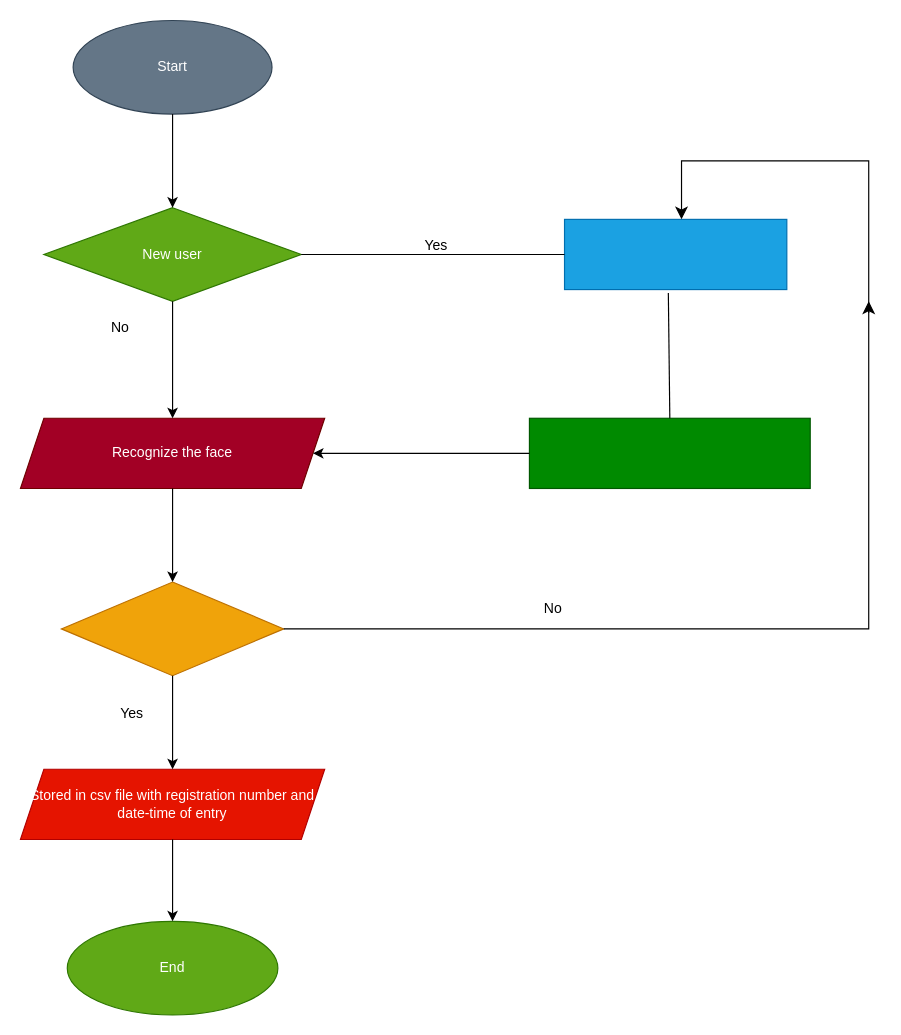
Some shapes in this 901 by 1035 pixel diagram are drawn without their labels. The centre of each missing label's shape, as x and y in pixels:
Face recognized: the point at 172,628
Give your autograph: the point at 675,254
Store the face data in folder on your name: the point at 669,452
